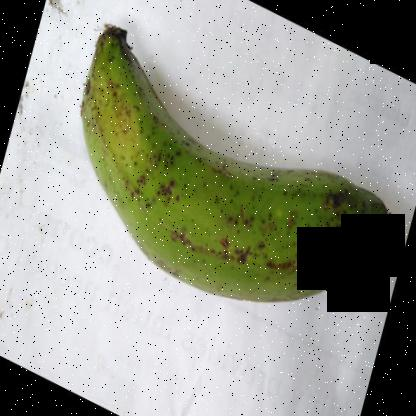rotten: (294, 218, 376, 312)
unripe: (69, 11, 409, 322)
